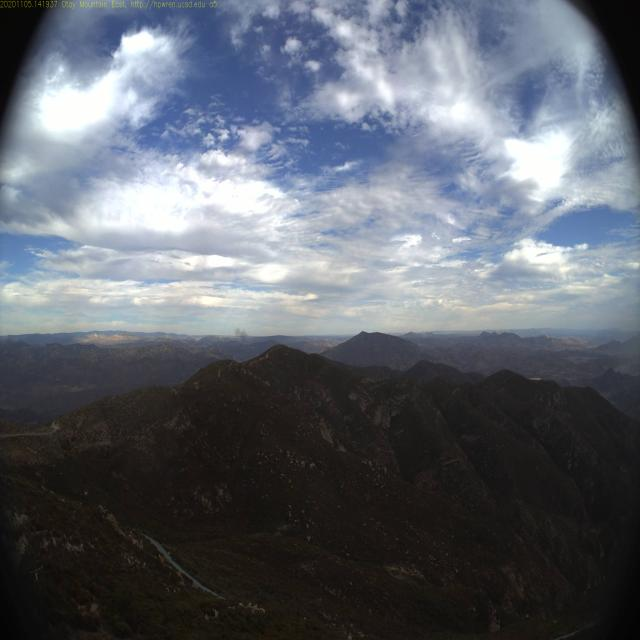smoke: (235, 326, 252, 347)
